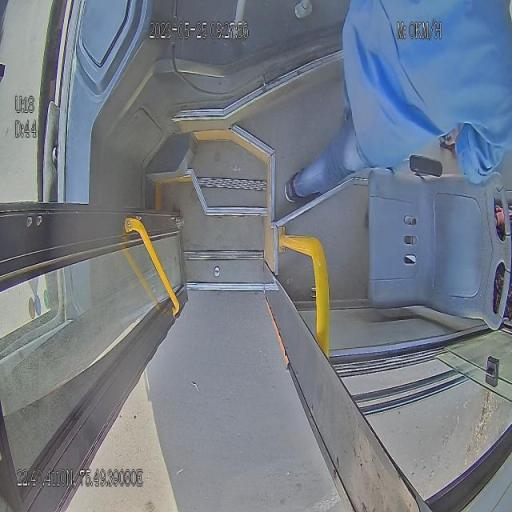persona: (284, 0, 511, 214)
